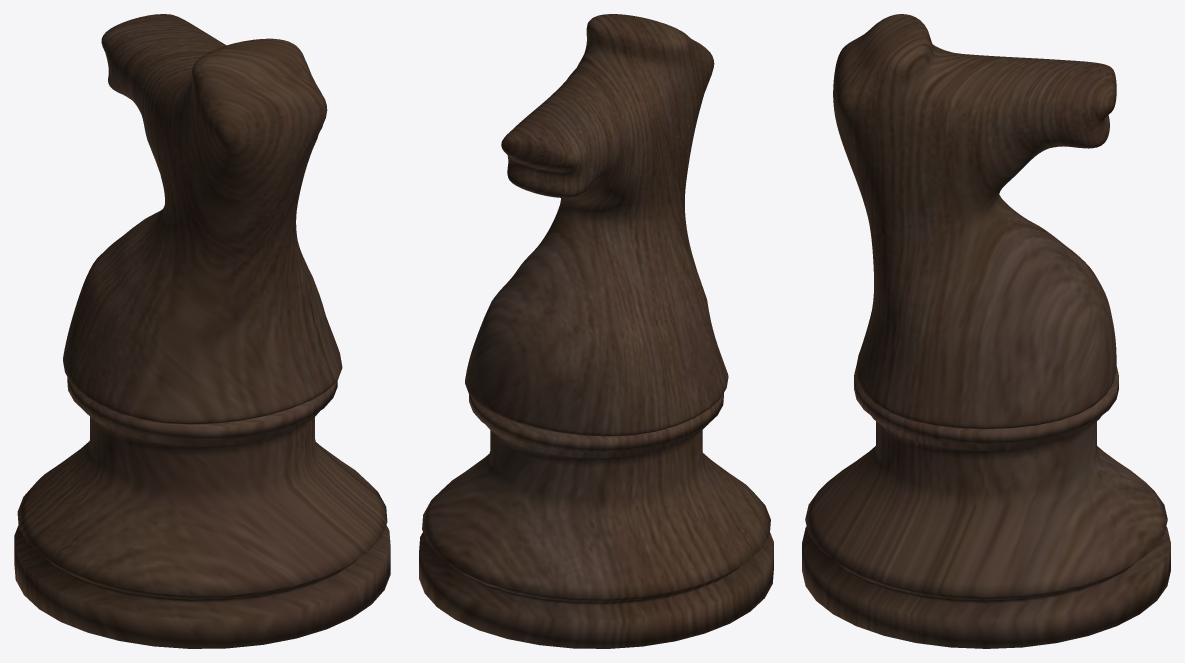
The model's file is Knight.obj.
3 views of the same model, side by side, from view 1: azimuth 30°, elevation 25°; view 2: azimuth 150°, elevation 25°; view 3: azimuth 270°, elevation 25° (orthographic). The views are drawn at different scales.
Parts seen in each view (by area): view 1: knight.003_Cube.001; view 2: knight.003_Cube.001; view 3: knight.003_Cube.001.
Boxes of the visible parts, left/top/right/bottom form: knight.003_Cube.001: left=14, top=14, right=390, bottom=648; knight.003_Cube.001: left=419, top=14, right=773, bottom=648; knight.003_Cube.001: left=802, top=14, right=1170, bottom=648.
Size of the model in its own units: 1.4 by 2.27 by 1.4.
